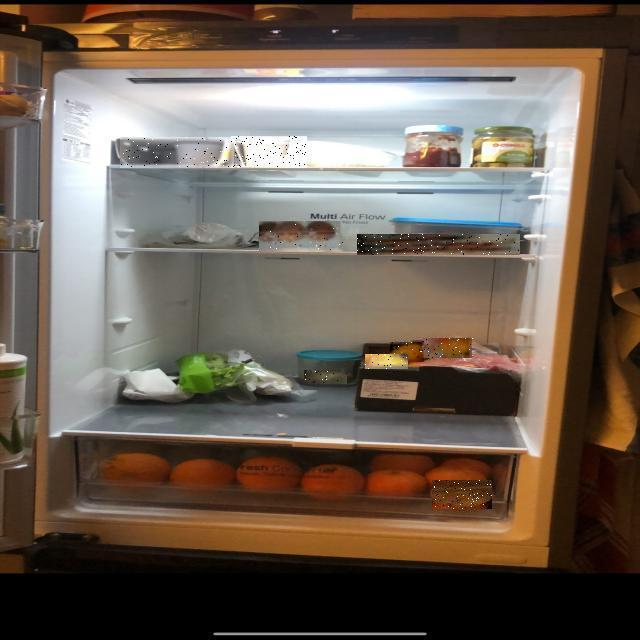cheese: (130, 192, 478, 576)
egg: (88, 126, 432, 378)
potato: (186, 254, 640, 640)
